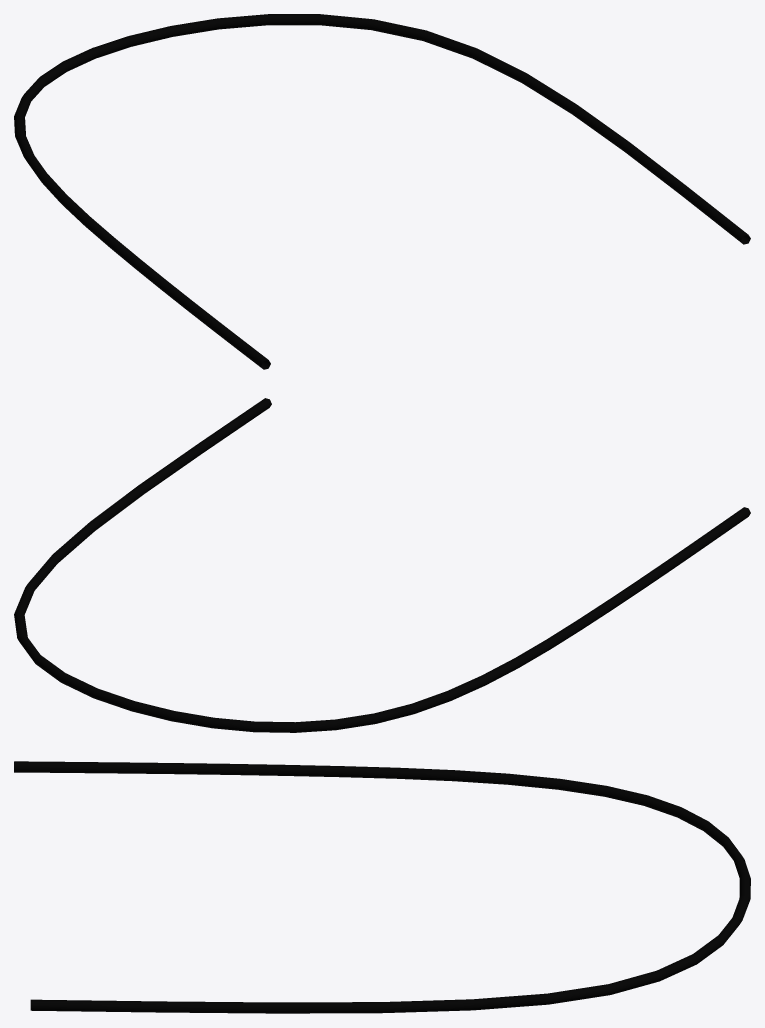
The model's file is SM_Stage_Final_Wire_botton_05.fbx.
The picture shows the model from 3 angles, top to bottom: view 1: azimuth 30°, elevation 25°; view 2: azimuth 150°, elevation 25°; view 3: azimuth 270°, elevation 25°; orthographic projection. The views are drawn at different scales.
Parts seen in each view (by area): view 1: SM_Stage_Final_Wire_botton_05; view 2: SM_Stage_Final_Wire_botton_05; view 3: SM_Stage_Final_Wire_botton_05.
Boxes of the visible parts, left/top/right/bottom form: SM_Stage_Final_Wire_botton_05: left=14, top=14, right=750, bottom=369; SM_Stage_Final_Wire_botton_05: left=14, top=398, right=750, bottom=732; SM_Stage_Final_Wire_botton_05: left=14, top=761, right=750, bottom=1013.
Bounding box in the file's own units: 156 × 2.6 × 198.
1 material, 1 textured.
